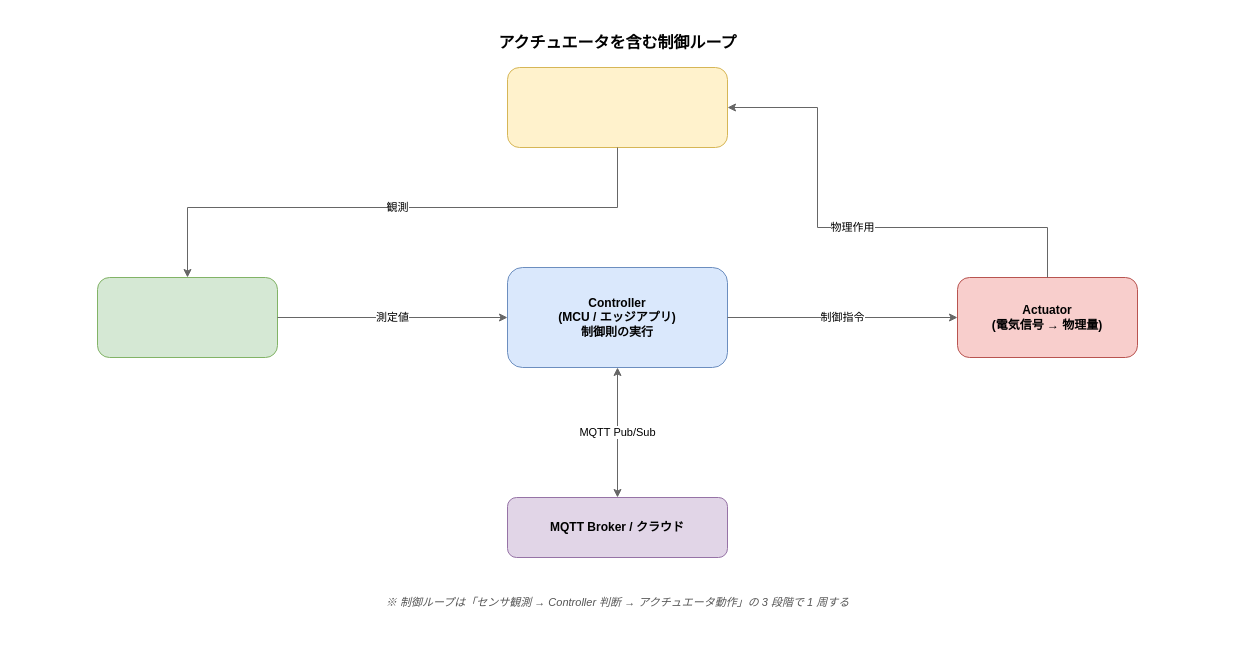
This 1234x654 diagram has some shape labels left out. Each missing label, with the centre of its shape:
Sensor (物理量 → 電気信号): [187,317]
物理世界 (温度・位置・圧力 など): [617,107]
